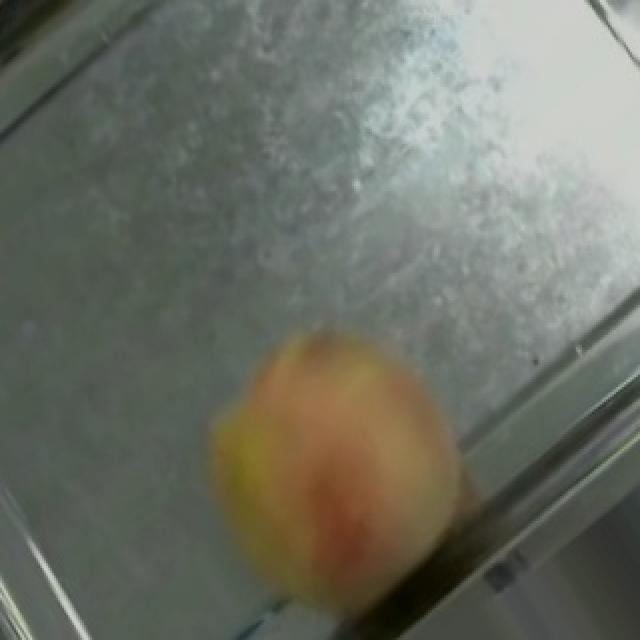Fruit: (156, 283, 496, 640)
